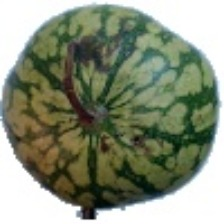watermelon: (5, 12, 201, 193)
